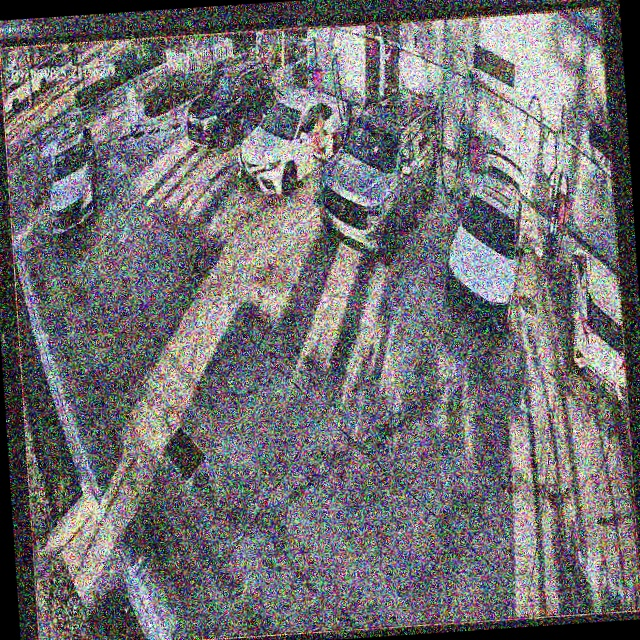Car: (312, 86, 446, 269), (437, 148, 533, 337), (234, 85, 359, 197), (184, 65, 282, 157)
